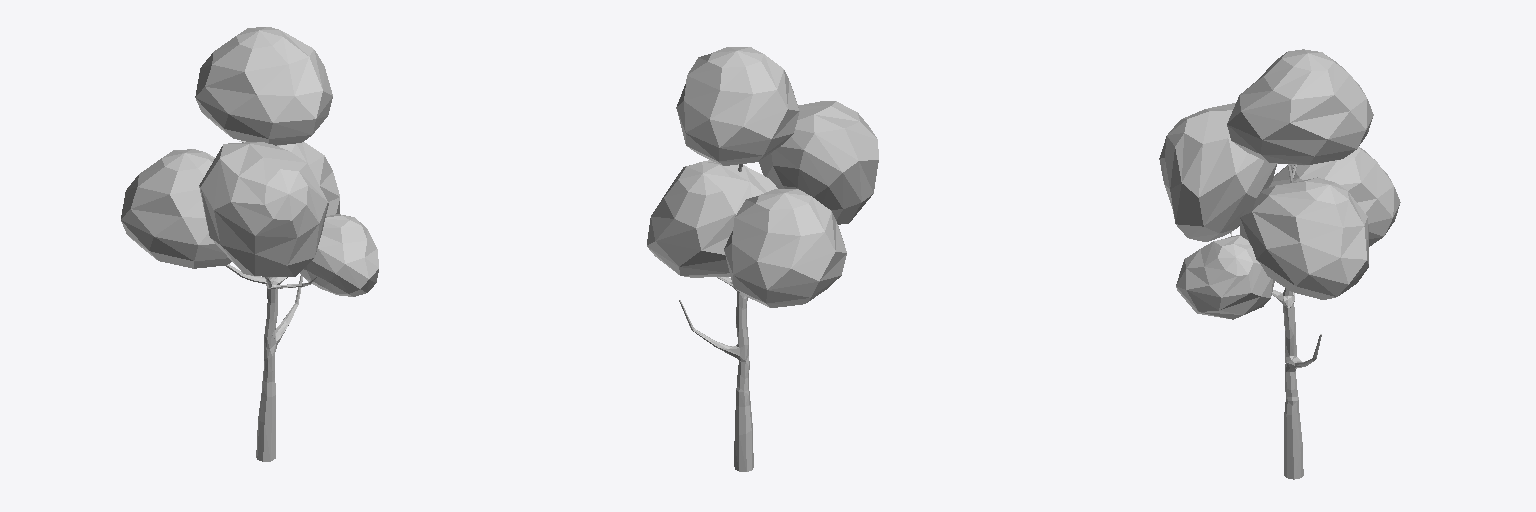
The model's file is Tree2.obj.
3 views of the same model, side by side, from view 1: azimuth 30°, elevation 25°; view 2: azimuth 150°, elevation 25°; view 3: azimuth 270°, elevation 25° (orthographic).
Parts seen in each view (by area): view 1: Tree_2; view 2: Tree_2; view 3: Tree_2.
Boxes of the visible parts, box(x1,y1,x2,y2) form: Tree_2: box(121, 27, 378, 461); Tree_2: box(647, 47, 878, 471); Tree_2: box(1159, 49, 1400, 479).
Bounding box in the file's own units: 10.95 × 22.87 × 11.85.